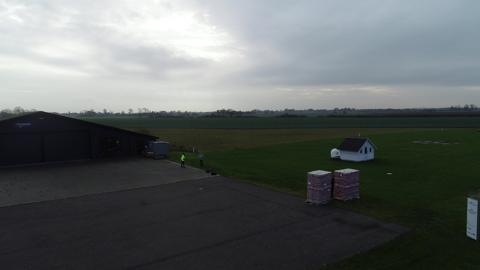RockwoolPallet: (334, 167, 361, 203)
